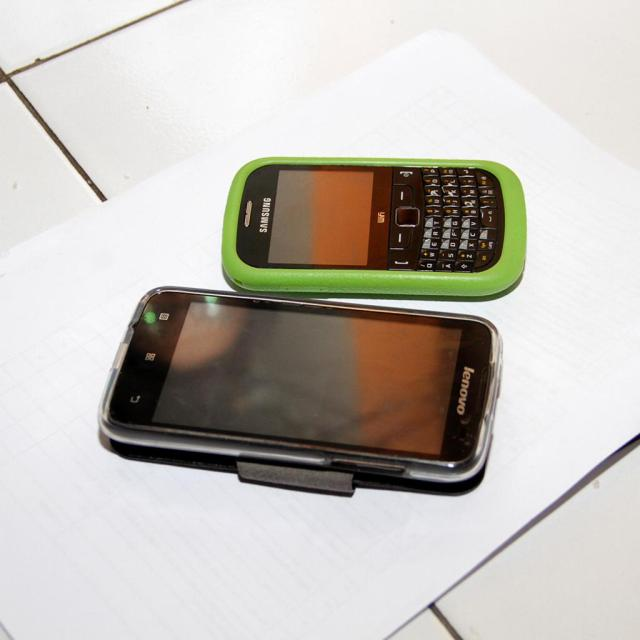Phone: (98, 284, 504, 495), (222, 160, 528, 298)
